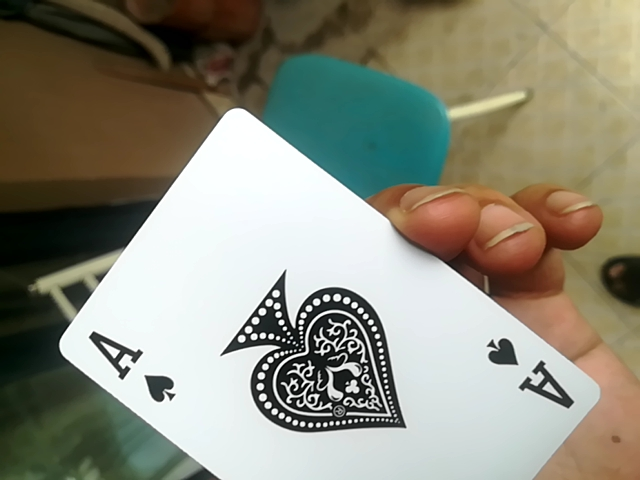ht a: (32, 107, 635, 478)
